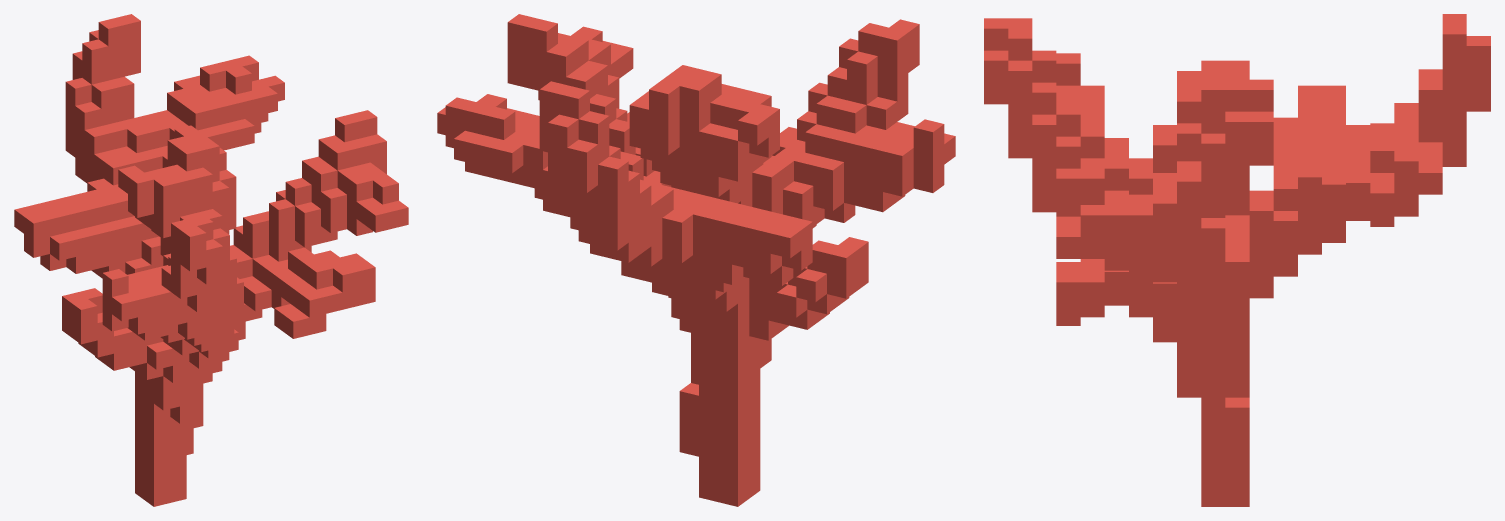
Rendered from MediumCoral1.fbx.
3 views of the same model, side by side, from view 1: azimuth 30°, elevation 25°; view 2: azimuth 150°, elevation 25°; view 3: azimuth 270°, elevation 25° (orthographic). The views are drawn at different scales.
Visible parts, largest first — view 1: Cube.109; view 2: Cube.109; view 3: Cube.109.
Part boxes in pixels (x1,y1,x2,y2): Cube.109: (14,14,408,506); Cube.109: (437,14,955,506); Cube.109: (984,14,1490,506).
Size of the model in its own units: 75.85 by 91.82 by 83.84.
